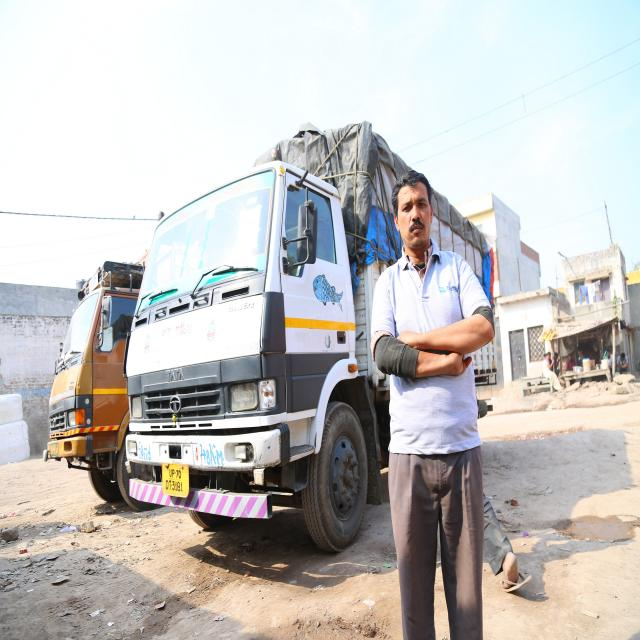Truck: (125, 134, 495, 549), (48, 267, 164, 511)
